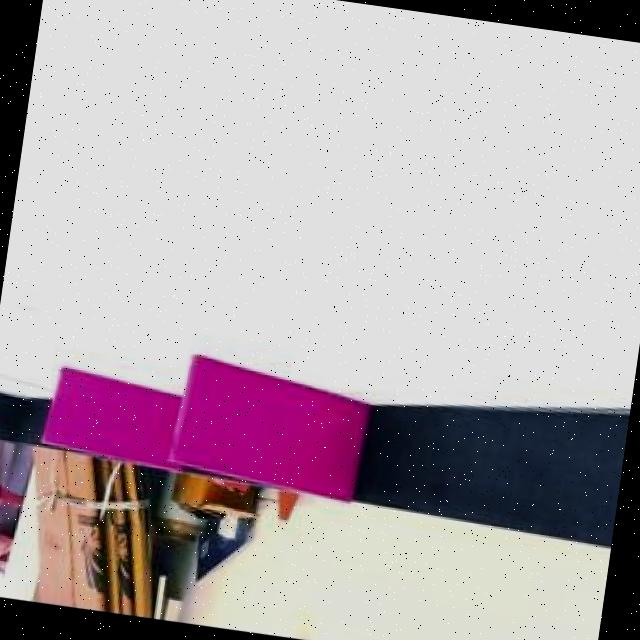xparking: (172, 360, 371, 492), (42, 372, 173, 459)
